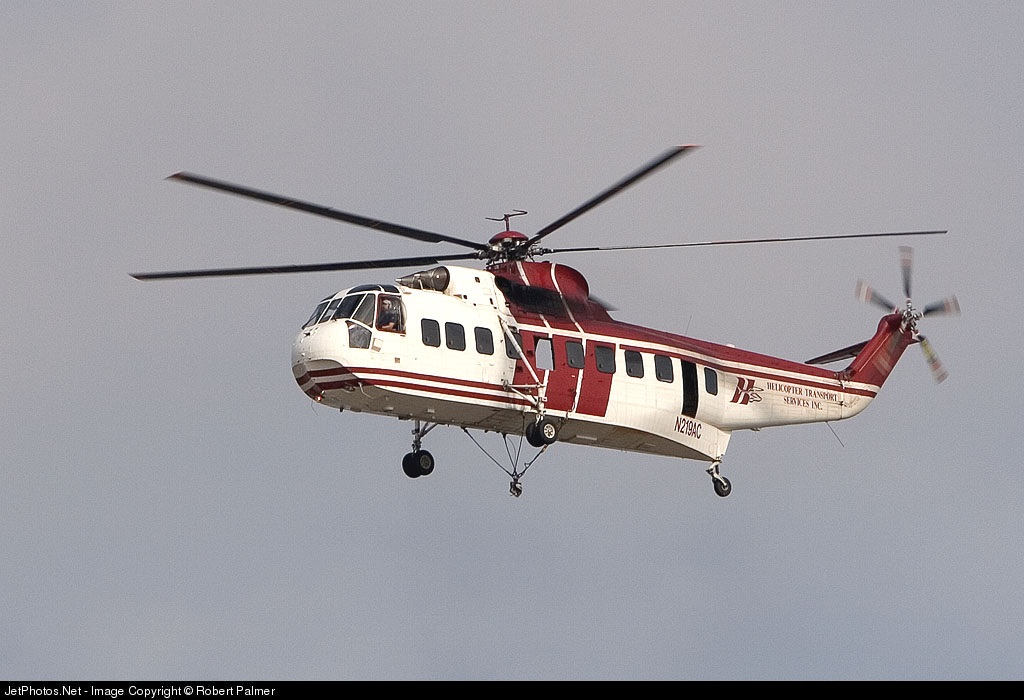number: (676, 411, 704, 442)
